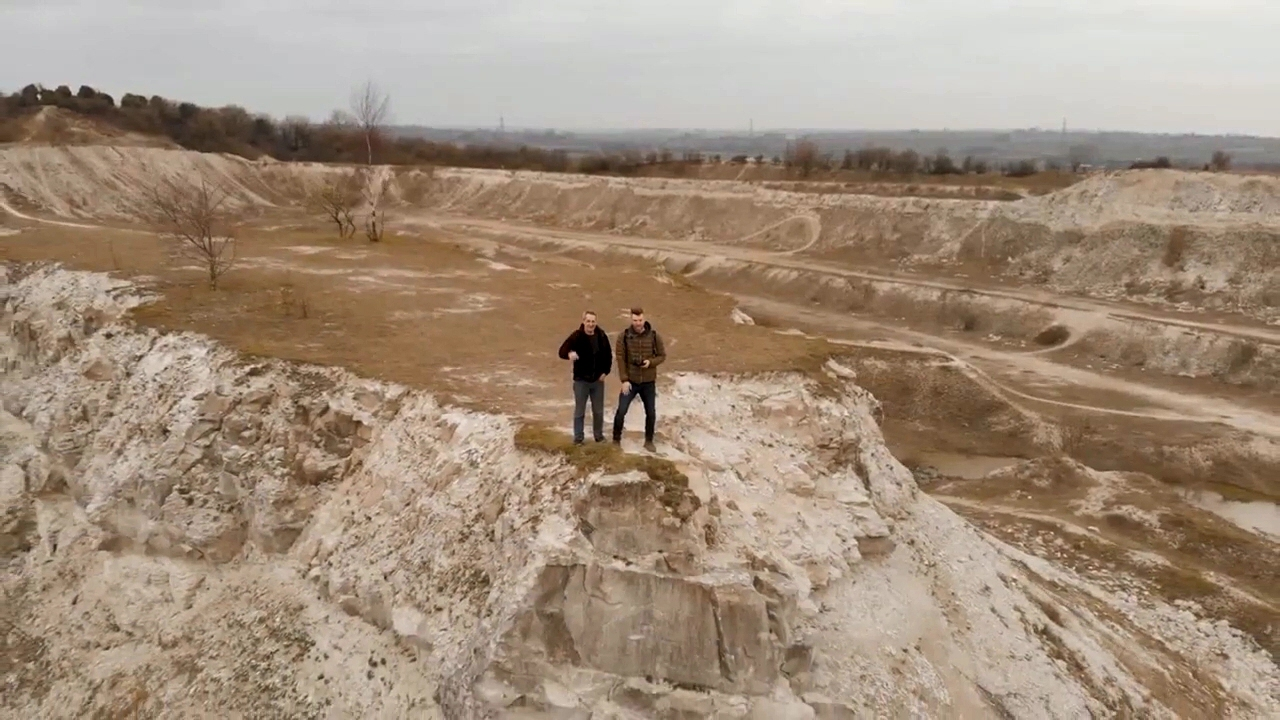insan: (612, 304, 670, 455), (555, 306, 612, 451)
